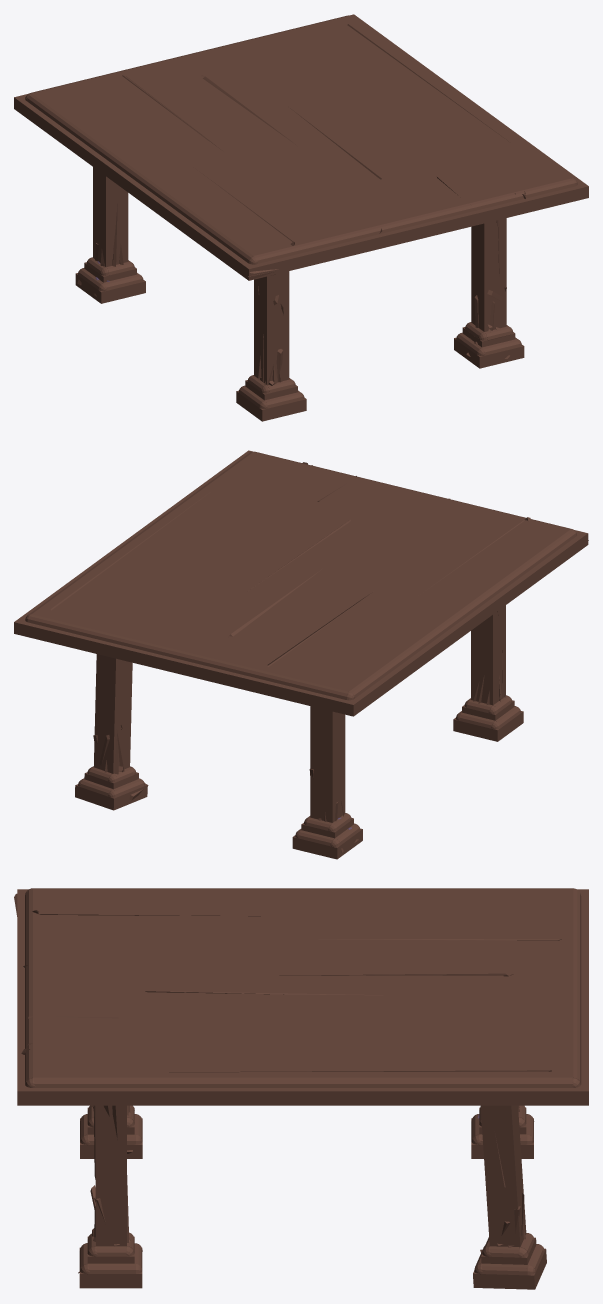
File: asset.gltf
The picture shows the model from 3 angles, top to bottom: view 1: azimuth 30°, elevation 25°; view 2: azimuth 150°, elevation 25°; view 3: azimuth 270°, elevation 25°; orthographic projection. The views are drawn at different scales.
Visible parts, largest first — view 1: node_MeshObject-214226944-PolyPaper20, node_MeshObject929931264-PolyPaper20; view 2: node_MeshObject-214226944-PolyPaper20, node_MeshObject929931264-PolyPaper20; view 3: node_MeshObject-214226944-PolyPaper20, node_MeshObject929931264-PolyPaper20.
Boxes of the visible parts, x1,y1,x2,y2 form: node_MeshObject-214226944-PolyPaper20: (14,14,588,421); node_MeshObject929931264-PolyPaper20: (77,24,525,358); node_MeshObject-214226944-PolyPaper20: (14,450,588,859); node_MeshObject929931264-PolyPaper20: (50,462,588,852); node_MeshObject-214226944-PolyPaper20: (17,888,588,1289); node_MeshObject929931264-PolyPaper20: (14,893,561,1273).
Bounding box in the file's own units: 0.6112 × 0.332 × 0.7342.
